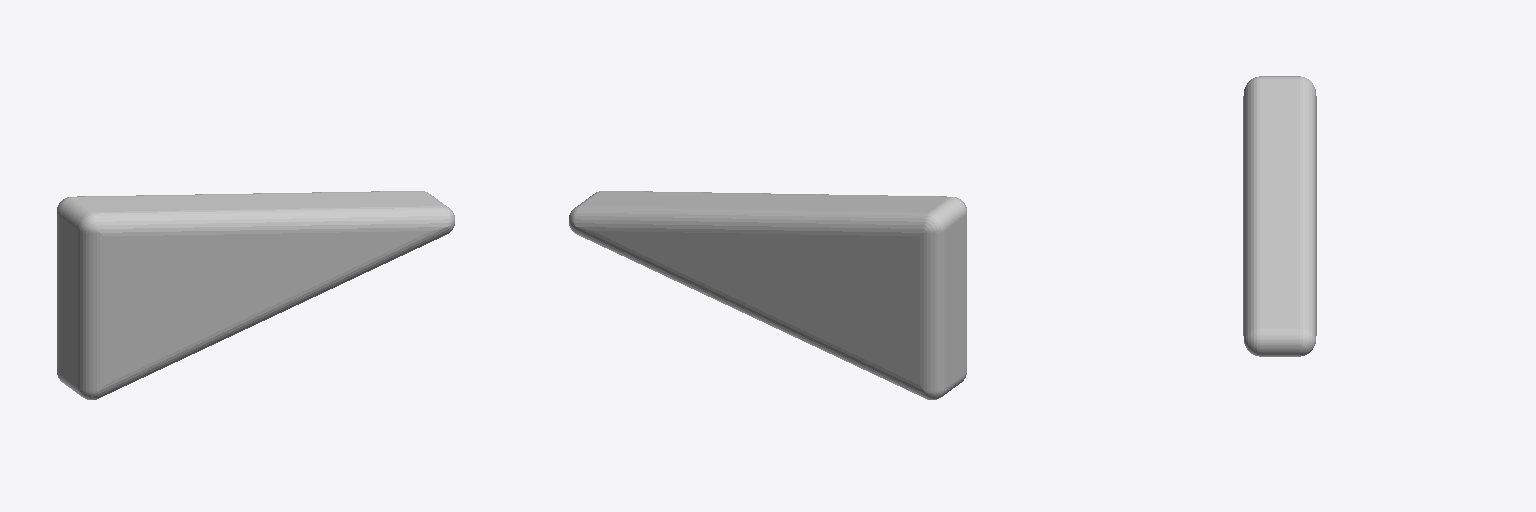
The model's file is アセット 1.obj.
3 renders of one model, left to right at view 1: azimuth 30°, elevation 25°; view 2: azimuth 150°, elevation 25°; view 3: azimuth 270°, elevation 25°, orthographic.
Parts seen in each view (by area): view 1: groupNumber_0; view 2: groupNumber_0; view 3: groupNumber_0.
Part boxes in pixels (left/top/right/bottom): groupNumber_0: left=57, top=191, right=454, bottom=399; groupNumber_0: left=569, top=191, right=966, bottom=399; groupNumber_0: left=1243, top=76, right=1316, bottom=356.
Size of the model in its own units: 6.2 by 2.95 by 1.05.